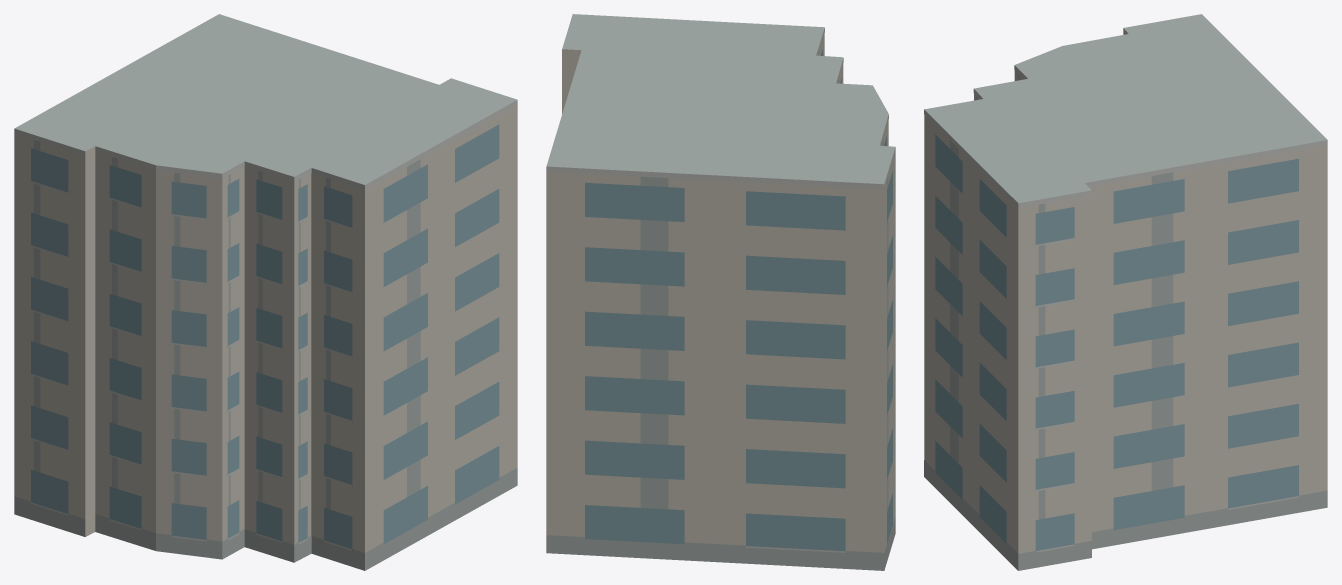
File: survey-upis-32996373.glb
The picture shows the model from 3 angles, left to right: view 1: azimuth 30°, elevation 25°; view 2: azimuth 150°, elevation 25°; view 3: azimuth 270°, elevation 25°; orthographic projection. The views are drawn at different scales.
Parts seen in each view (by area): view 1: survey-upis-32996373.tmp; view 2: survey-upis-32996373.tmp; view 3: survey-upis-32996373.tmp.
Part boxes in pixels (x1,y1,x2,y2): survey-upis-32996373.tmp: (14, 14, 517, 570); survey-upis-32996373.tmp: (546, 14, 895, 570); survey-upis-32996373.tmp: (924, 14, 1327, 570).
Bounding box in the file's own units: 20.22 × 18.3 × 18.22.
